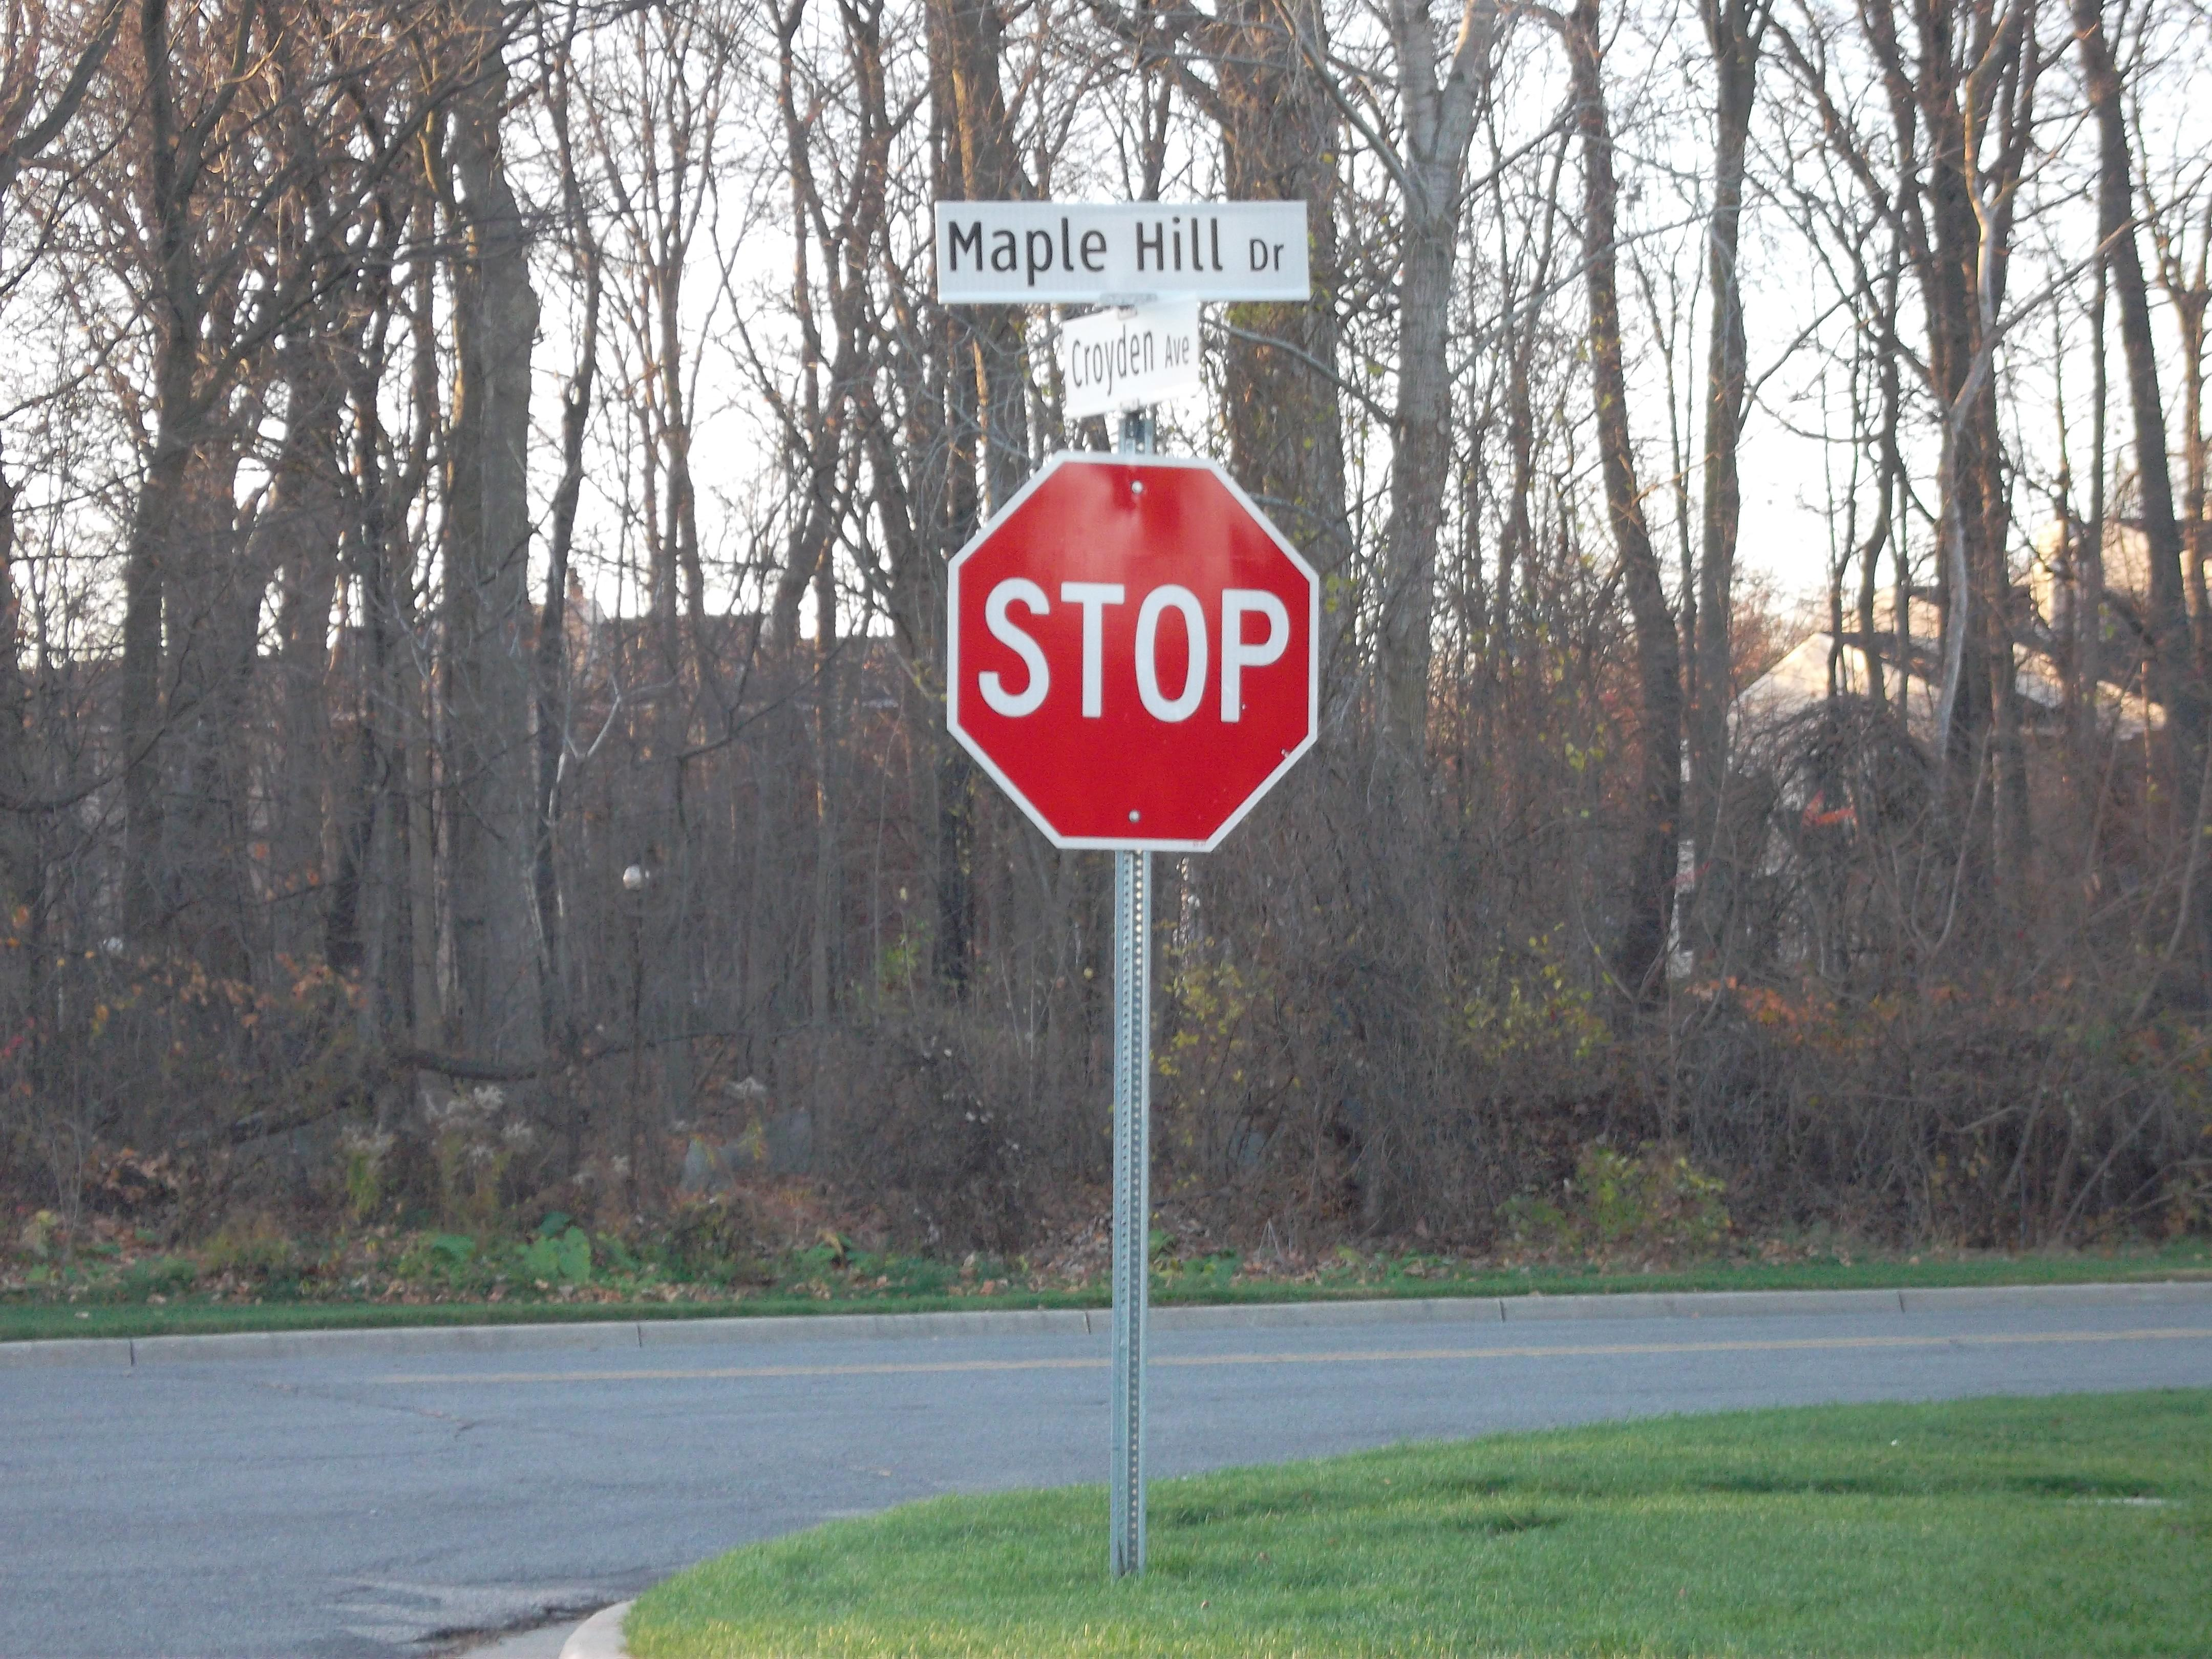stop: (944, 443, 1329, 856)
